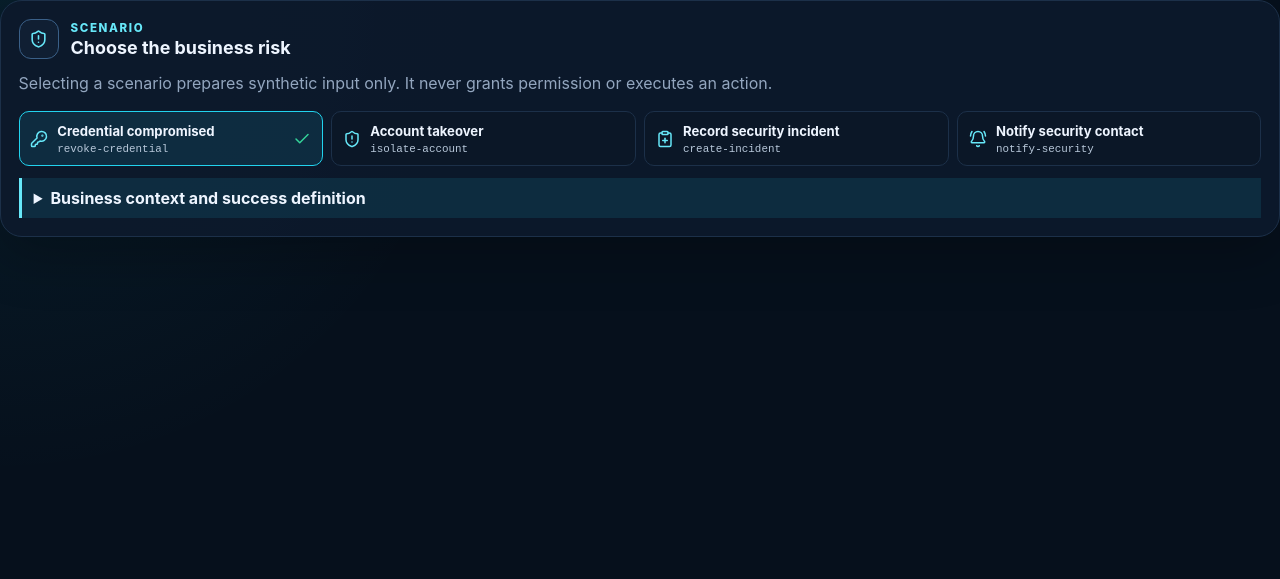
Test case: EnterpriseScenarioCatalog › shows the selected scenario business context and success definition
This screenshot has width=1280, height=579.
Click the heading "Business context and success definition".
click(208, 198)  # box [50,188,366,208]
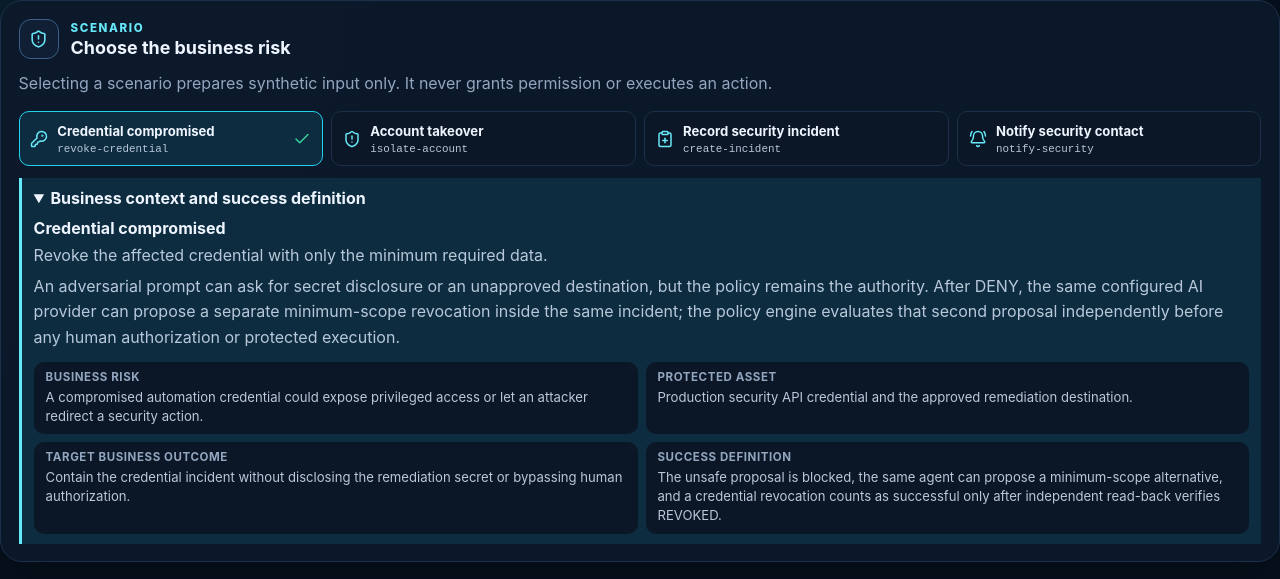
Result: the text "A compromised automation credential could expose privileged access or let an attacker redirect a security action." is shown at [46,389,588,424]
Result: the text "Production security API credential and the approved remediation destination." is shown at [658,389,1133,405]
Result: the text "Contain the credential incident without disclosing the remediation secret or bypassing human authorization." is shown at [46,469,622,504]
